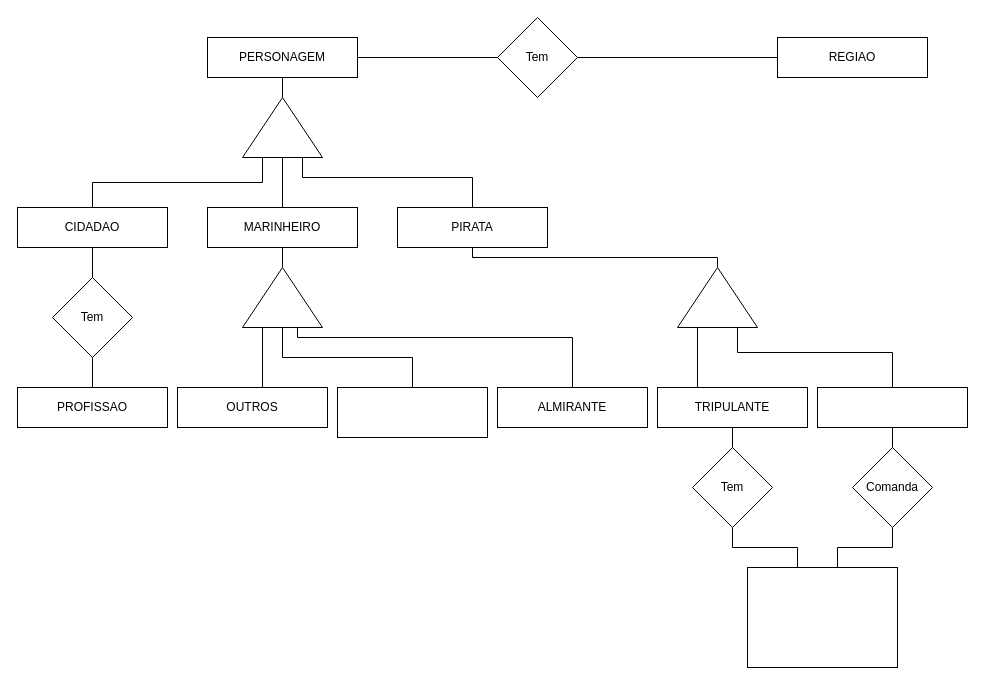
Image size: 985x685. Some labels were removed from this diagram. Here are the shapes that lost their labels. From the top down, the centre of each, then its label:
At (412,412): "ALMIRANTE DA FROTA".
At (892,407): "CAPITAO".
At (822,617): "BANDO".
